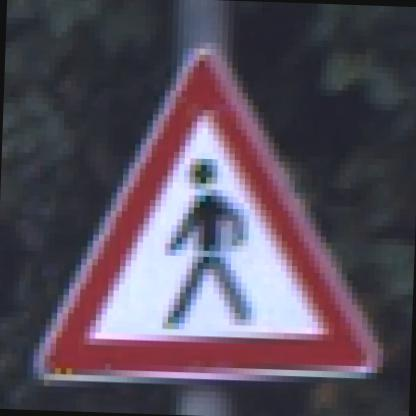crosswalk: (37, 43, 394, 412)
